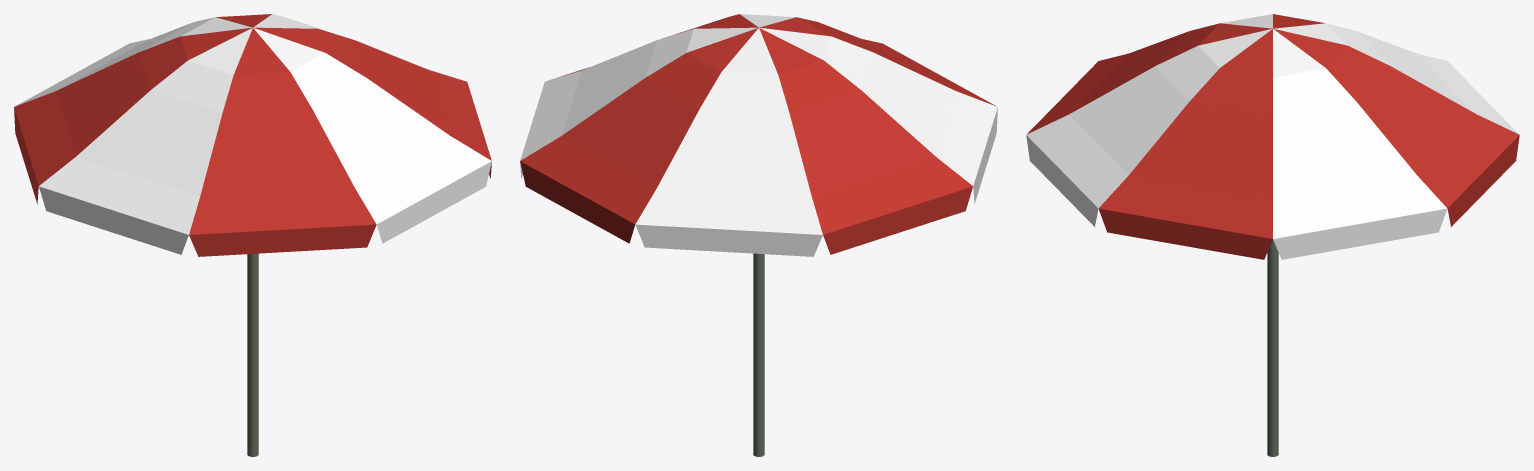
The model's file is zontik.fbx.
3 renders of one model, left to right at view 1: azimuth 30°, elevation 25°; view 2: azimuth 150°, elevation 25°; view 3: azimuth 270°, elevation 25°, orthographic.
Visible parts, largest first — view 1: Circle; view 2: Circle; view 3: Circle.
Part boxes in pixels (<box>): Circle: <box>14,14,491,456</box>; Circle: <box>520,14,997,456</box>; Circle: <box>1026,14,1519,456</box>.
Size of the model in its own units: 300 by 286 by 300.
